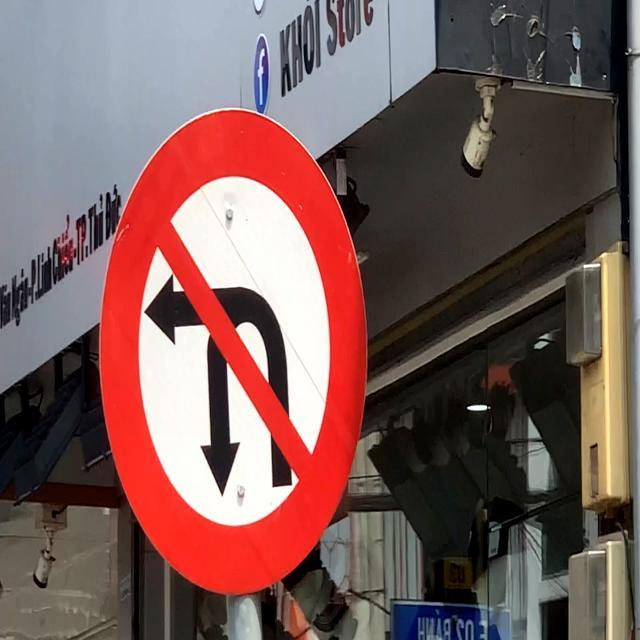P-124c: (103, 106, 370, 594)
